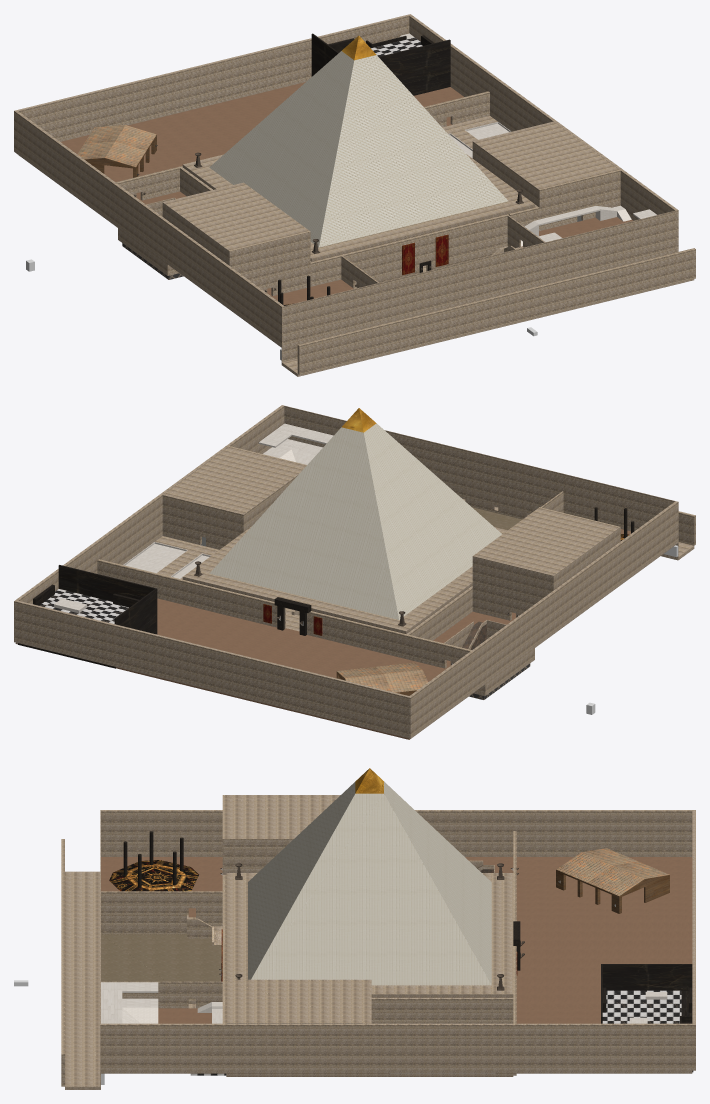
The model's file is der_tempel_map.gltf.
3 renders of one model, top to bottom at view 1: azimuth 30°, elevation 25°; view 2: azimuth 150°, elevation 25°; view 3: azimuth 270°, elevation 25°, orthographic. The views are drawn at different scales.
Parts seen in each view (by area): view 1: pyramid, Cube.137, Cube.026, Cube.050, Cube.059, pillar_building_roof, Cube.007, Cube.025, Cube.172, center_roof, Cube.013, Cube.169 (+14 smaller); view 2: pyramid, Cube.026, Cube.059, Cube.137, pillar_building_roof, Cube.007, Cube.025, Cube.172, center_roof, Cube.072, Cube.016, Cube.047 (+16 smaller); view 3: pyramid, Cube.025, Cube.059, Cube.007, Cube.001, Cube.048, center_roof, Cube.172, Cube.019, pillar_building_roof, Cube.045, Cube.002 (+11 smaller).
Boxes of the visible parts, <box> form: pyramid: <box>209,35,508,247</box>; Cube.137: <box>281,210,678,362</box>; Cube.026: <box>14,14,411,152</box>; Cube.050: <box>297,248,695,374</box>; Cube.059: <box>15,111,283,347</box>; pillar_building_roof: <box>162,182,310,265</box>; Cube.007: <box>130,84,300,163</box>; Cube.025: <box>409,15,677,220</box>; Cube.172: <box>477,122,618,188</box>; center_roof: <box>182,154,535,261</box>; Cube.013: <box>340,214,508,281</box>; Cube.169: <box>538,169,620,230</box>; pyramid: <box>209,408,502,619</box>; Cube.026: <box>14,600,412,738</box>; Cube.059: <box>410,501,678,737</box>; Cube.137: <box>282,405,678,557</box>; pillar_building_roof: <box>472,507,620,590</box>; Cube.007: <box>130,611,375,712</box>; Cube.025: <box>15,405,284,644</box>; Cube.172: <box>165,447,305,512</box>; center_roof: <box>182,526,507,633</box>; Cube.072: <box>162,494,245,549</box>; Cube.016: <box>472,571,553,620</box>; Cube.047: <box>178,579,285,628</box>; pyramid: <box>248,768,491,985</box>; Cube.025: <box>101,1023,692,1073</box>; Cube.059: <box>101,810,692,856</box>; Cube.007: <box>516,917,692,1008</box>; Cube.001: <box>101,857,692,917</box>; Cube.048: <box>65,871,100,1089</box>; center_roof: <box>226,873,513,997</box>; Cube.172: <box>226,981,367,1023</box>; Cube.019: <box>101,934,221,999</box>; pillar_building_roof: <box>222,795,340,855</box>; Cube.045: <box>226,997,513,1076</box>; Cube.002: <box>101,891,222,934</box>.
Size of the model in its own units: 172 by 76 by 190.
20 materials, 20 textured.
